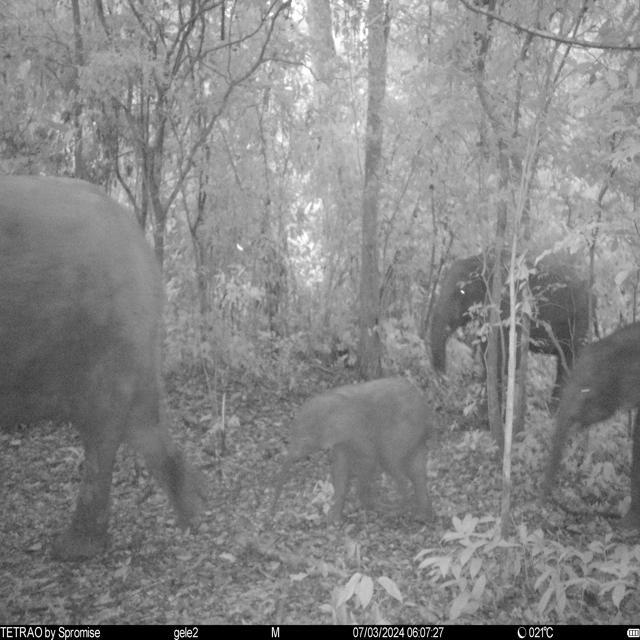calf: (272, 374, 434, 529)
elephant: (0, 176, 213, 564), (430, 243, 600, 418), (537, 320, 640, 536)
